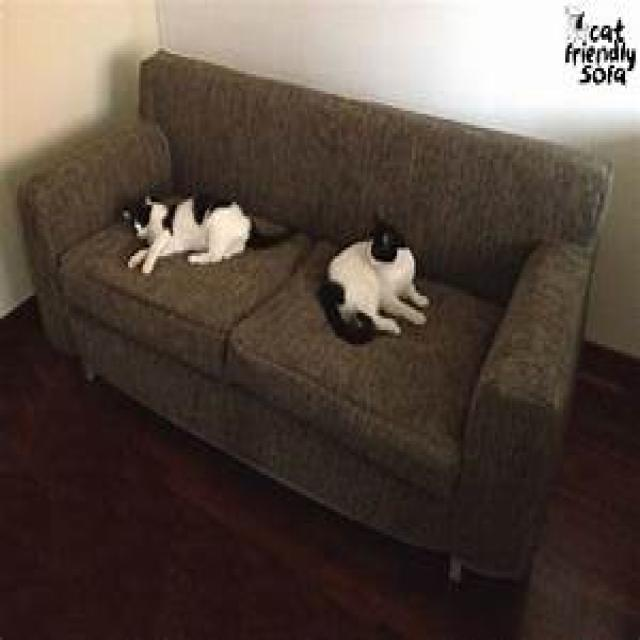animal: (316, 213, 431, 344), (120, 188, 290, 273)
